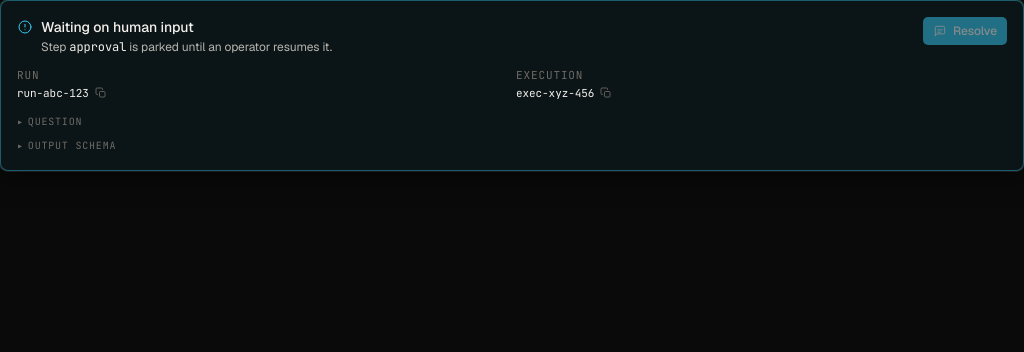
Test: HumanInputGate › renders the output_schema as JSON when expanded
The image size is (1024, 352).
Click the button with test id "human-input-gate-schema-toggle" at [67, 146], box [17,138,116,154]
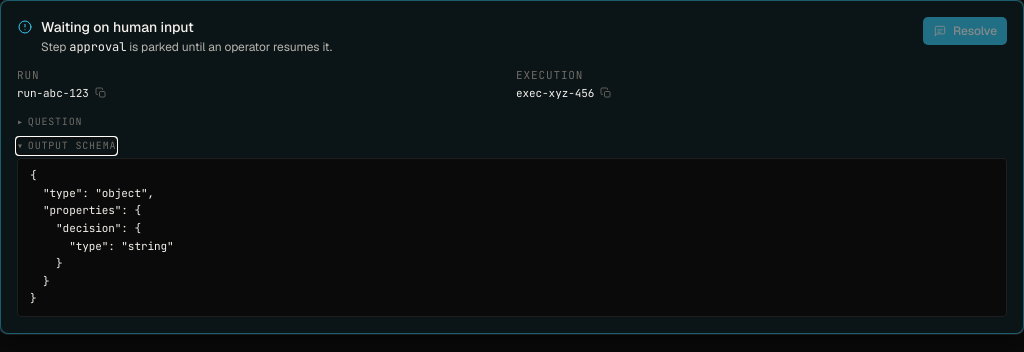
Now the text with test id "human-input-gate-schema" shows "\"decision\"", box [30,168,174,305]
Now the text with test id "human-input-gate-schema" shows "\"object\"", box [30,168,174,305]
